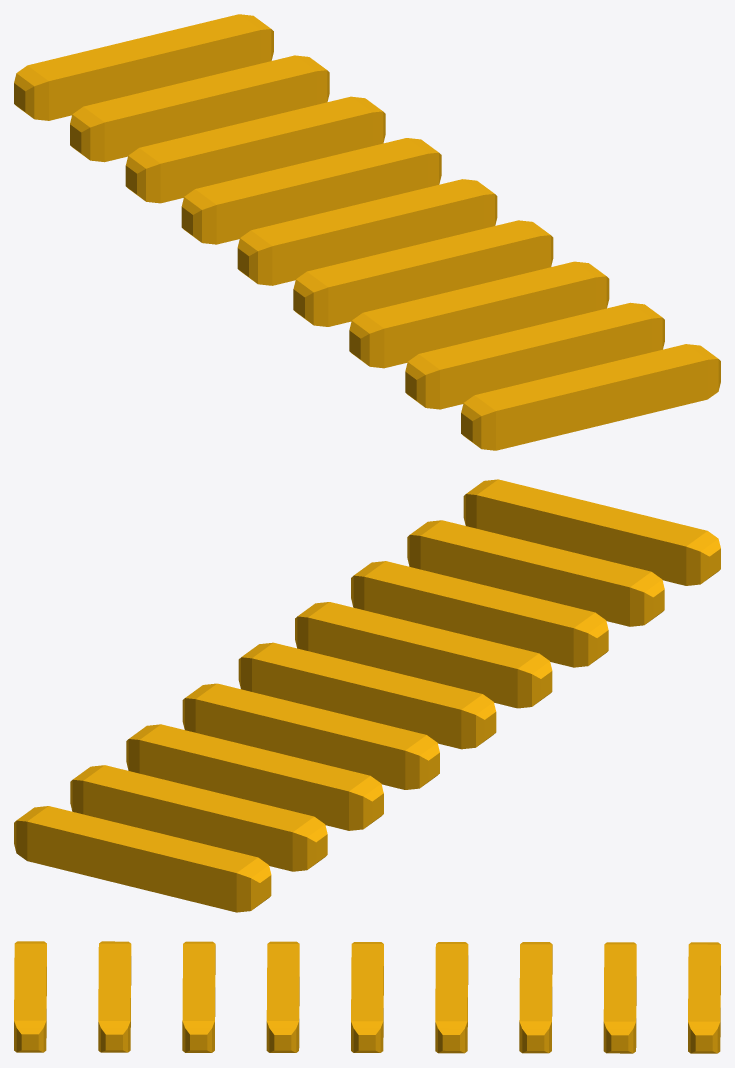
The model's file is light_object_ceil.obj.
The picture shows the model from 3 angles, top to bottom: view 1: azimuth 30°, elevation 25°; view 2: azimuth 150°, elevation 25°; view 3: azimuth 270°, elevation 25°; orthographic projection. The views are drawn at different scales.
Parts seen in each view (by area): view 1: Cube.047_export; view 2: Cube.047_export; view 3: Cube.047_export.
Part boxes in pixels (x1,y1,x2,y2): Cube.047_export: (14, 14, 720, 450); Cube.047_export: (14, 479, 720, 912); Cube.047_export: (14, 941, 720, 1053).
Size of the model in its own units: 0.9826 by 0.1488 by 3.2.
